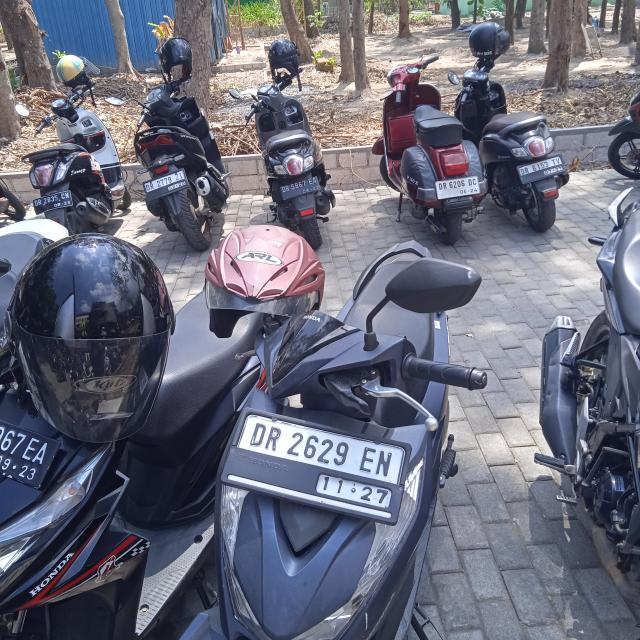plate: (222, 416, 410, 514), (142, 168, 190, 203), (515, 154, 565, 185), (434, 175, 480, 200), (33, 189, 72, 215), (280, 176, 321, 200)
